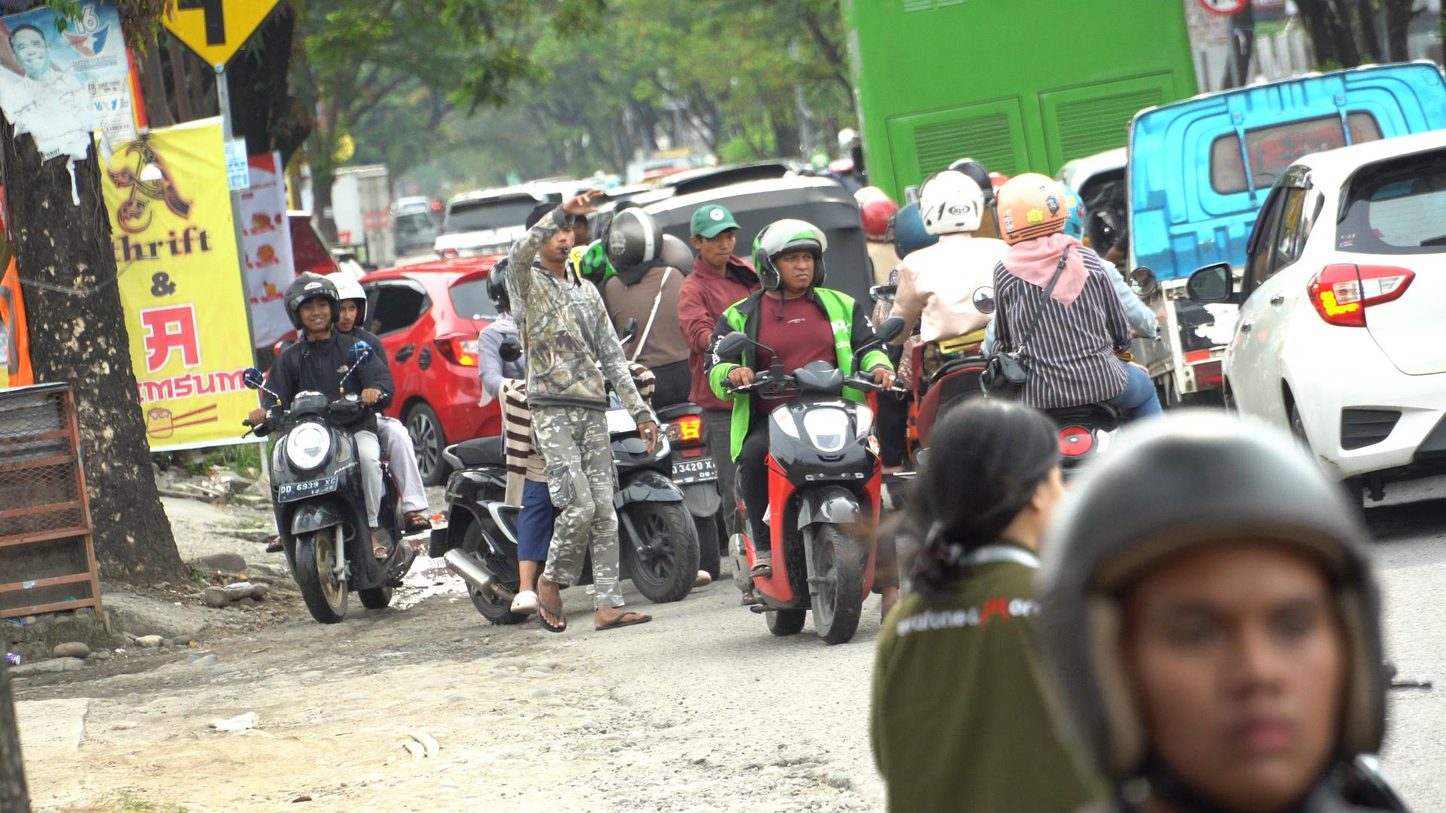number-plate: (276, 474, 340, 500)
